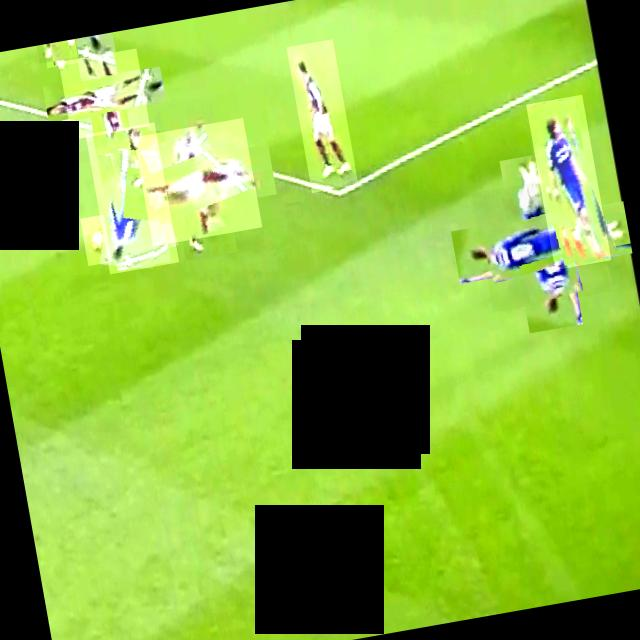ball: (80, 214, 112, 265)
soccer-player: (472, 172, 610, 312), (133, 117, 262, 246), (526, 94, 611, 270), (85, 122, 179, 274), (286, 39, 358, 192), (58, 48, 150, 140), (42, 38, 78, 68)
